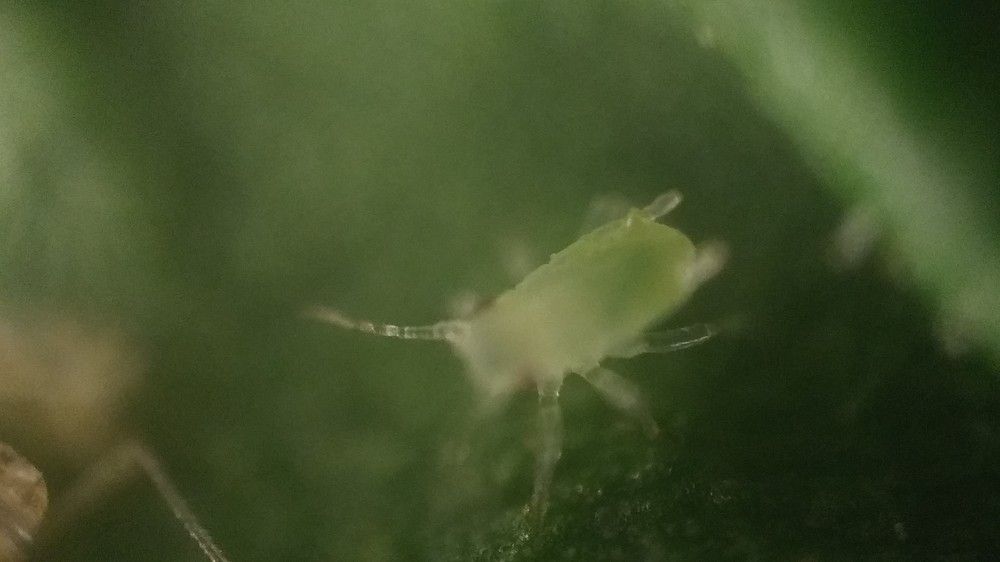Pulgon: (305, 158, 802, 501)
